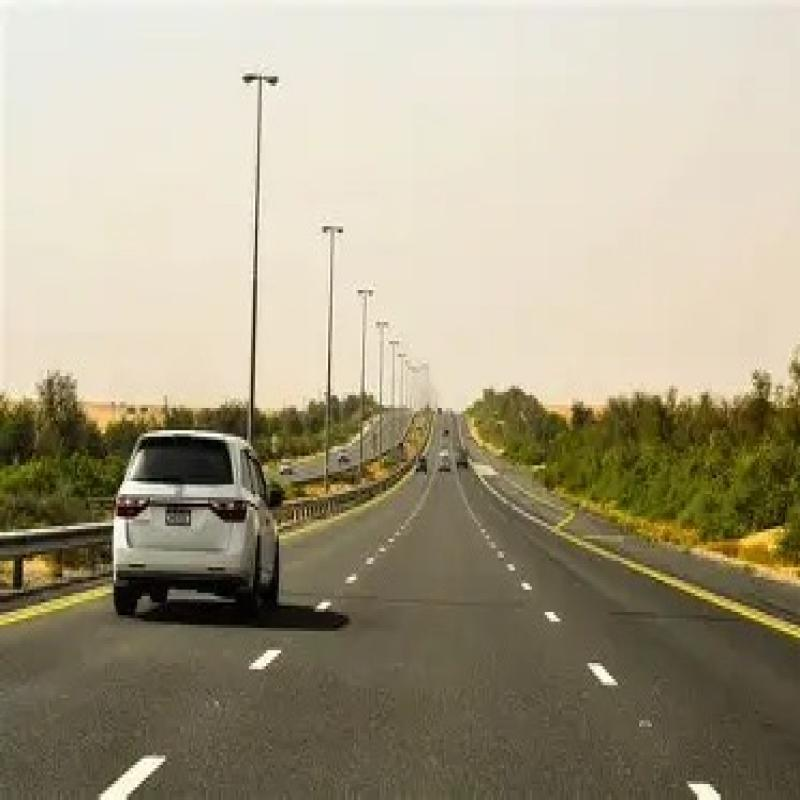license plate on a car: (163, 496, 193, 536)
